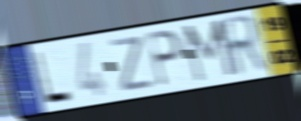4: (77, 39, 108, 101)
L: (32, 49, 75, 106)
M: (181, 17, 240, 86)
P: (145, 28, 184, 89)
R: (219, 12, 271, 81)
Z: (109, 34, 156, 95)
